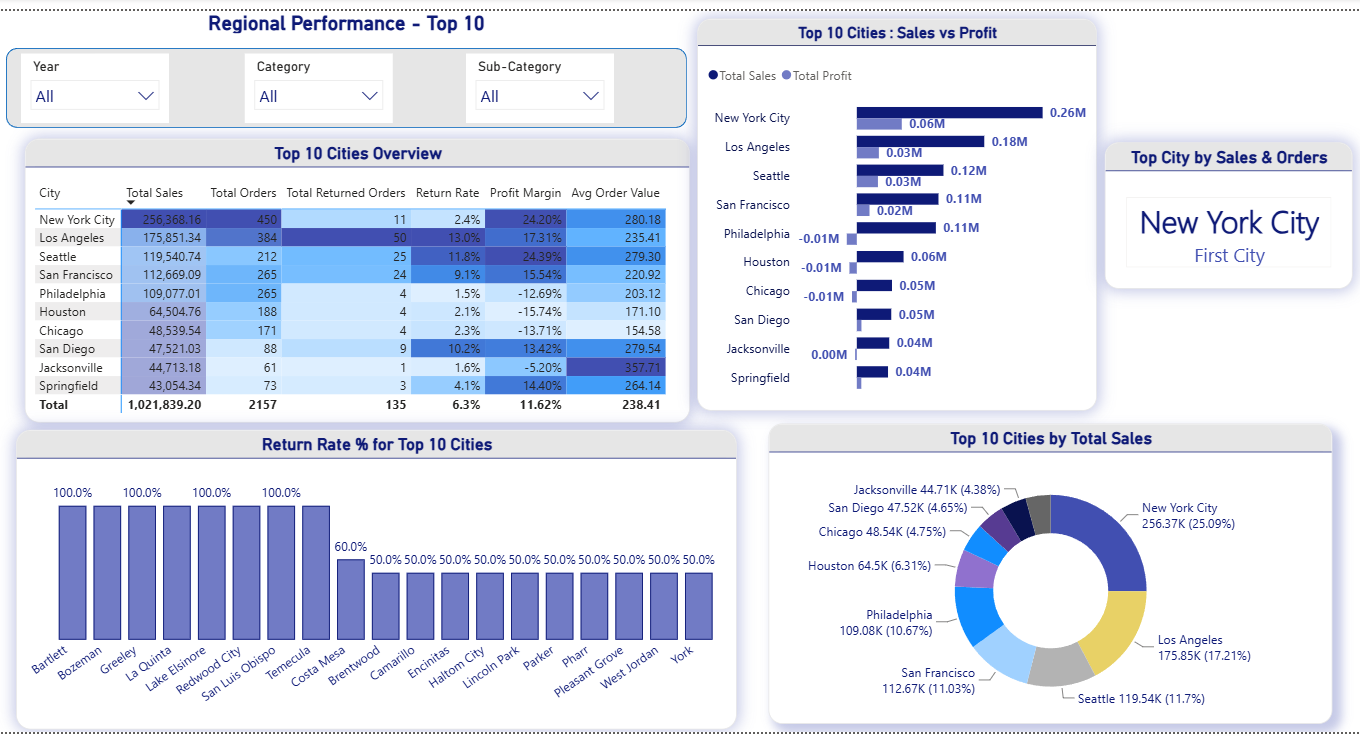

What the dashboard file says about the page in this screenshot:
{"tool":"powerbi","page":{"name":"Top 10 Cities","canvas":[1475,780],"ordinal":5},"visuals":[{"type":"pivotTable","title":"Top 10 Cities Overview","fields":{"Rows":["Orders.City"],"Values":["Orders.Total Sales","Orders.Total Orders","Returns.Total Returned Orders","Returns.Return Rate","Orders.Profit Margin","Orders.Avg Order Value"]},"box":[30.6,137.5,719.4,306.9],"z":0},{"type":"clusteredBarChart","title":"Top 10 Cities : Sales vs Profit","fields":{"Category":["Orders.City"],"Y":["Orders.Total Sales","Orders.Total Profit"]},"box":[758.3,8.3,431.9,423.6],"z":1000},{"type":"columnChart","title":"Return Rate % for Top 10 Cities","fields":{"Category":["Orders.City"],"Y":["Returns.Return Rate"]},"box":[22.2,452.8,779.2,323.6],"z":2000},{"type":"cardVisual","title":"Top City by Sales & Orders ","fields":{"Data":["Min(Orders.City)"]},"box":[1198.6,141.7,268.1,158.3],"z":3000},{"type":"donutChart","title":"Top 10 Cities by Total Sales","fields":{"Category":["Orders.City"],"Y":["Orders.Total Sales"]},"box":[834.7,445.8,609.7,325],"z":4000},{"type":"shape","title":"Regional Performance - Top 10","box":[11.1,0,736.1,126.4],"z":5000},{"type":"slicer","fields":{"Values":["Calendar.Year"]},"box":[26.4,45.8,159.7,75],"z":6000},{"type":"slicer","fields":{"Values":["Orders.Category"]},"box":[269.4,45.8,159.7,75],"z":7000},{"type":"slicer","fields":{"Values":["Orders.Sub-Category"]},"box":[508.3,45.8,159.7,75],"z":8000}]}

Visuals, with their boxes in screenshot pixels (x1, y1, x2, y2), scaled from the page's 1475x780 canvas onto the 1360x736 screenshot:
"Top 10 Cities Overview" pivotTable: box=[28, 130, 692, 419]
"Top 10 Cities : Sales vs Profit" clusteredBarChart: box=[699, 8, 1097, 408]
"Return Rate % for Top 10 Cities" columnChart: box=[20, 427, 739, 733]
"Top City by Sales & Orders " cardVisual: box=[1105, 134, 1352, 283]
"Top 10 Cities by Total Sales" donutChart: box=[770, 421, 1332, 727]
"Regional Performance - Top 10" shape: box=[10, 0, 689, 119]
slicer - Calendar.Year: box=[24, 43, 172, 114]
slicer - Orders.Category: box=[248, 43, 396, 114]
slicer - Orders.Sub-Category: box=[469, 43, 616, 114]
